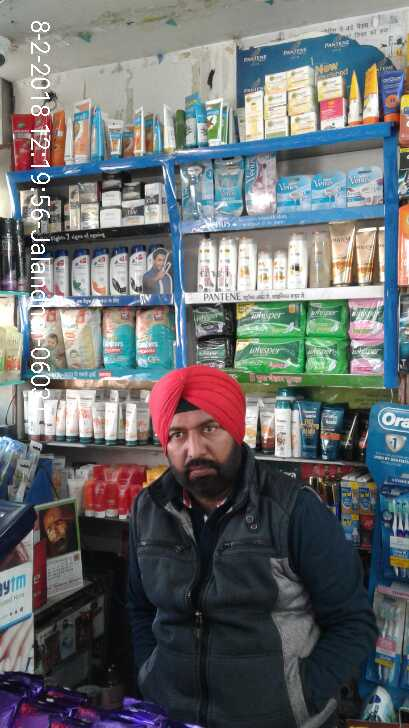venus: (245, 154, 277, 212), (217, 154, 245, 220), (185, 163, 217, 220), (277, 171, 313, 212), (348, 168, 383, 206), (312, 170, 348, 206)
